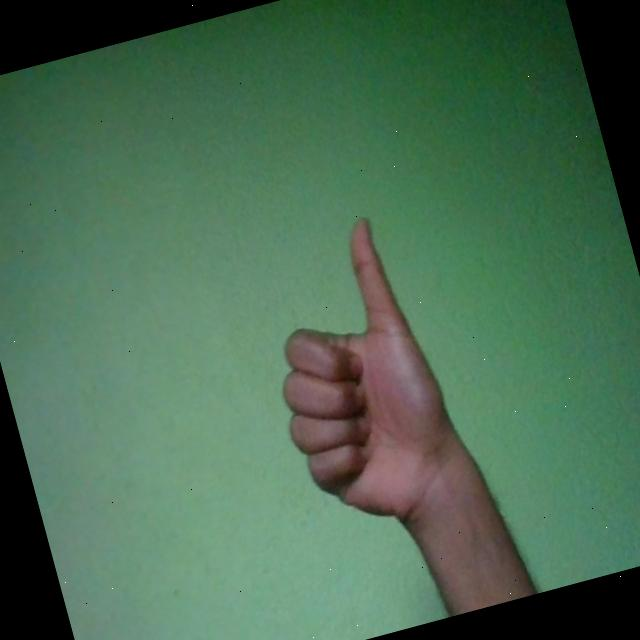Good Job: (239, 205, 472, 546)
